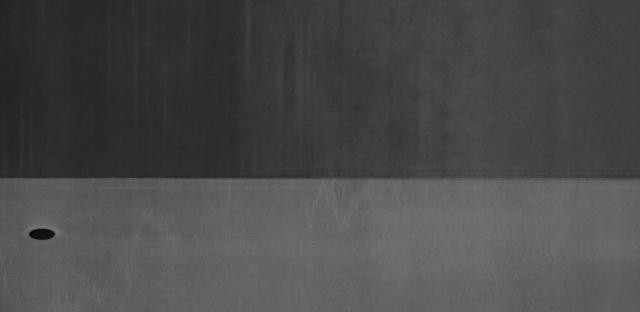punching_hole: (21, 223, 70, 243)
welding_line: (5, 172, 640, 186)
